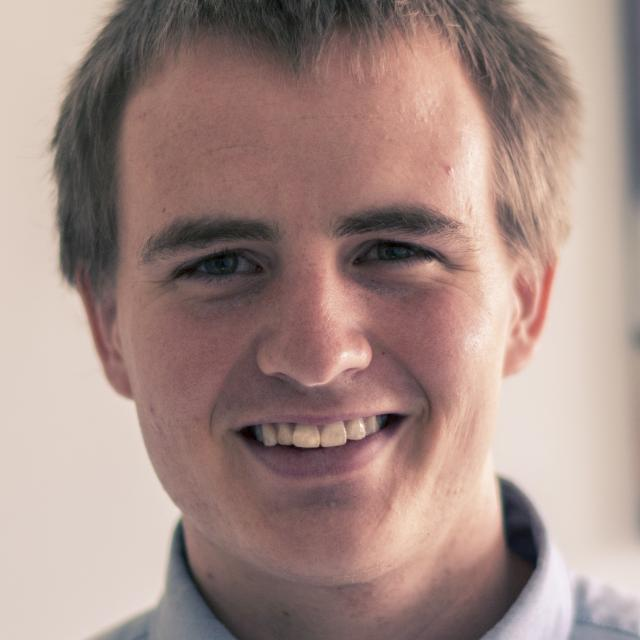Normal: (115, 27, 518, 580)
